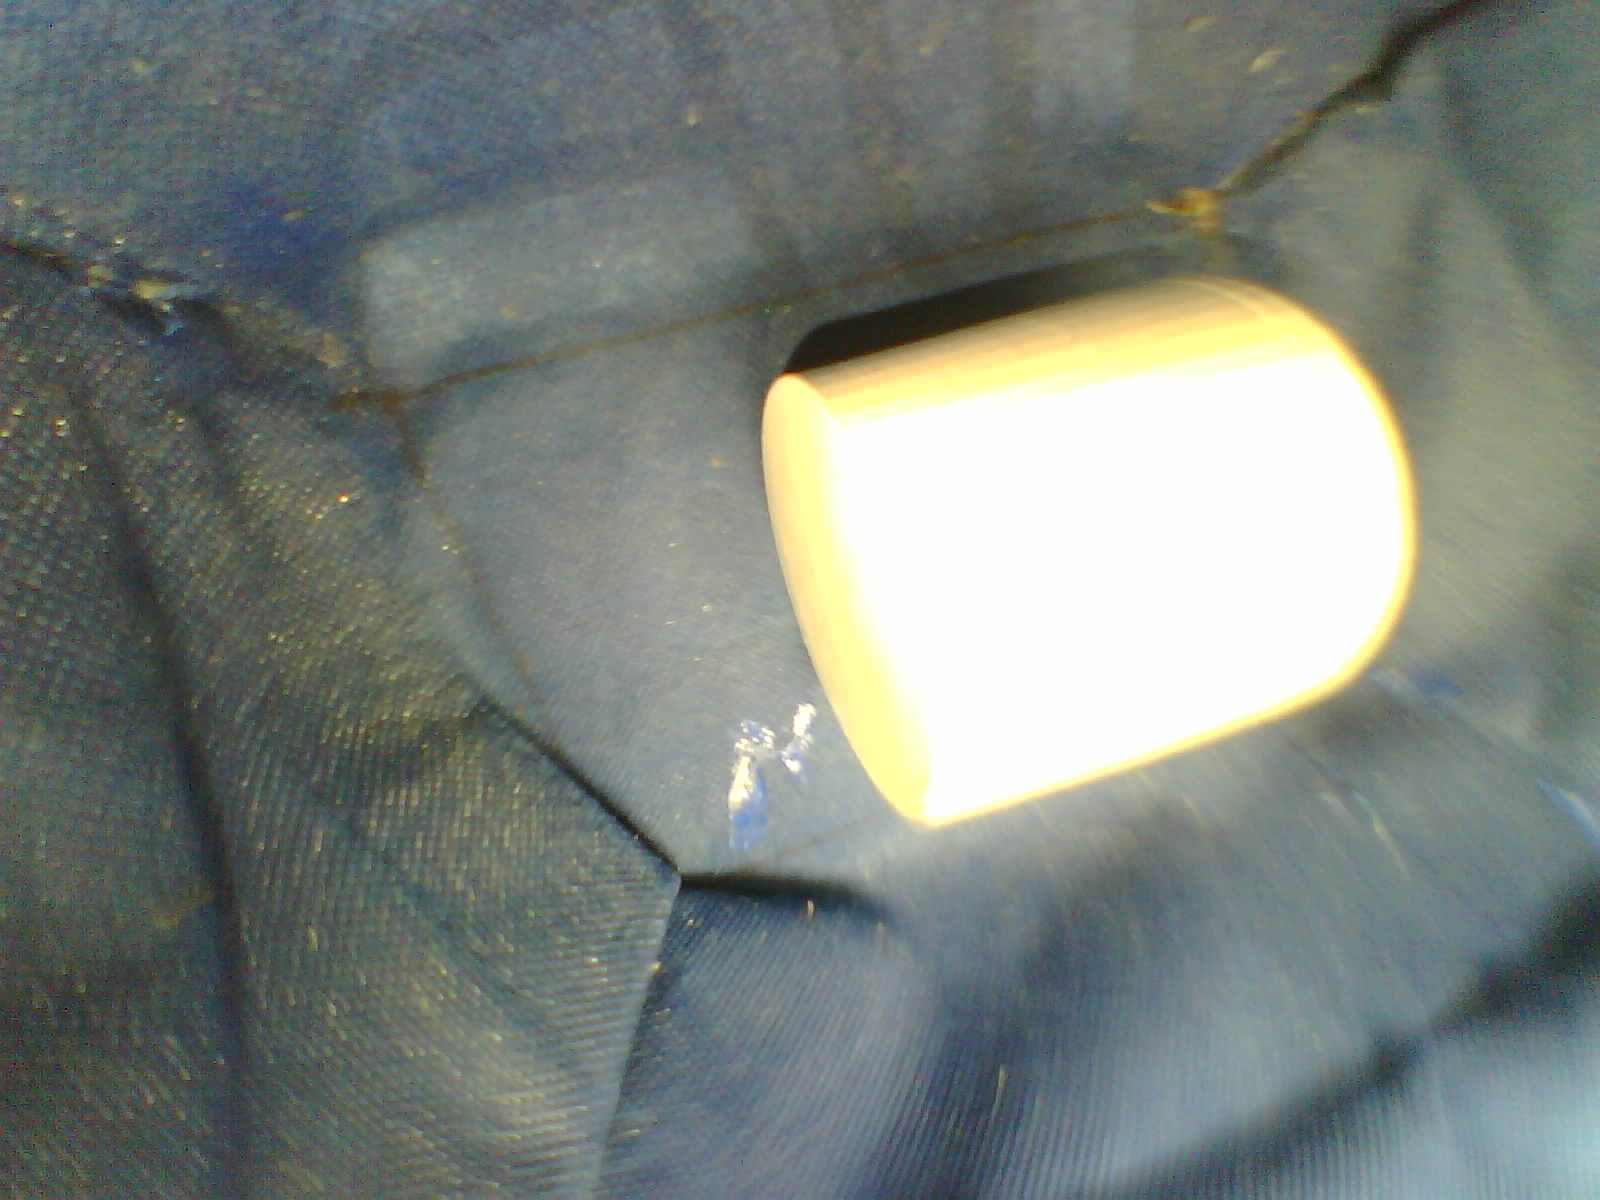cylinder-hard: (731, 251, 1421, 856)
